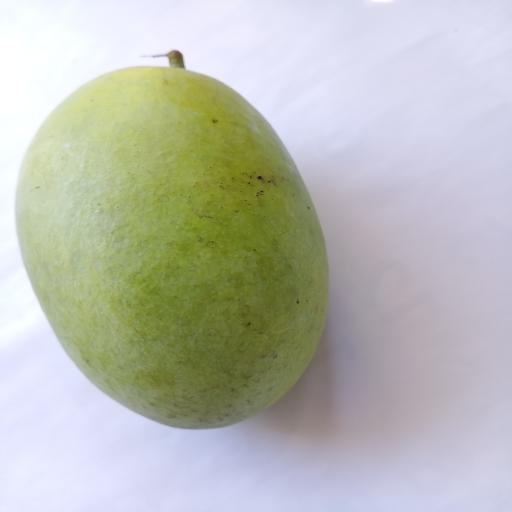mango-unripe: (7, 49, 341, 437)
